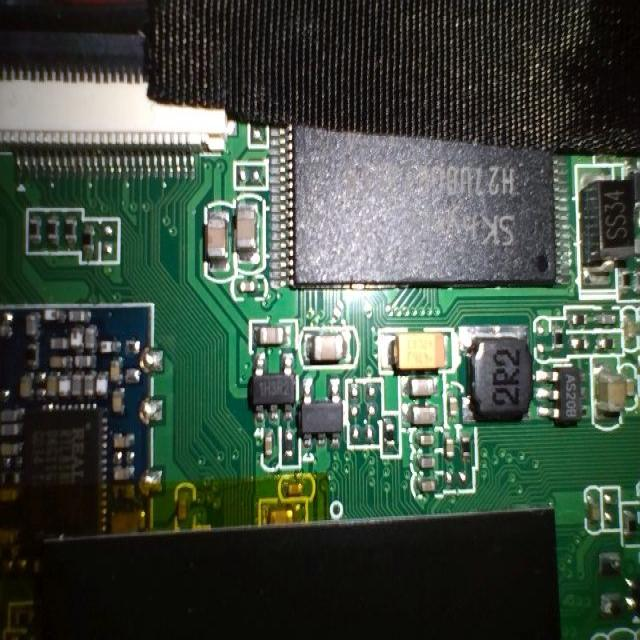capacitor: (202, 204, 230, 276), (305, 336, 359, 372), (233, 195, 259, 269), (246, 319, 287, 349), (592, 366, 622, 402), (278, 467, 311, 499), (258, 506, 300, 530), (177, 484, 194, 530), (584, 484, 601, 528), (107, 356, 127, 391), (258, 431, 277, 465), (401, 479, 435, 497), (0, 479, 19, 511), (406, 380, 438, 398), (0, 527, 18, 553), (411, 407, 437, 424), (0, 442, 22, 461), (414, 454, 441, 468), (110, 394, 125, 419), (413, 431, 438, 445), (48, 356, 71, 368), (110, 435, 134, 446)
resistor: (58, 204, 82, 252), (22, 214, 48, 256), (101, 215, 118, 266), (623, 502, 640, 550), (82, 223, 99, 265), (380, 423, 402, 454), (42, 210, 58, 248), (41, 372, 58, 398), (15, 367, 28, 397)
